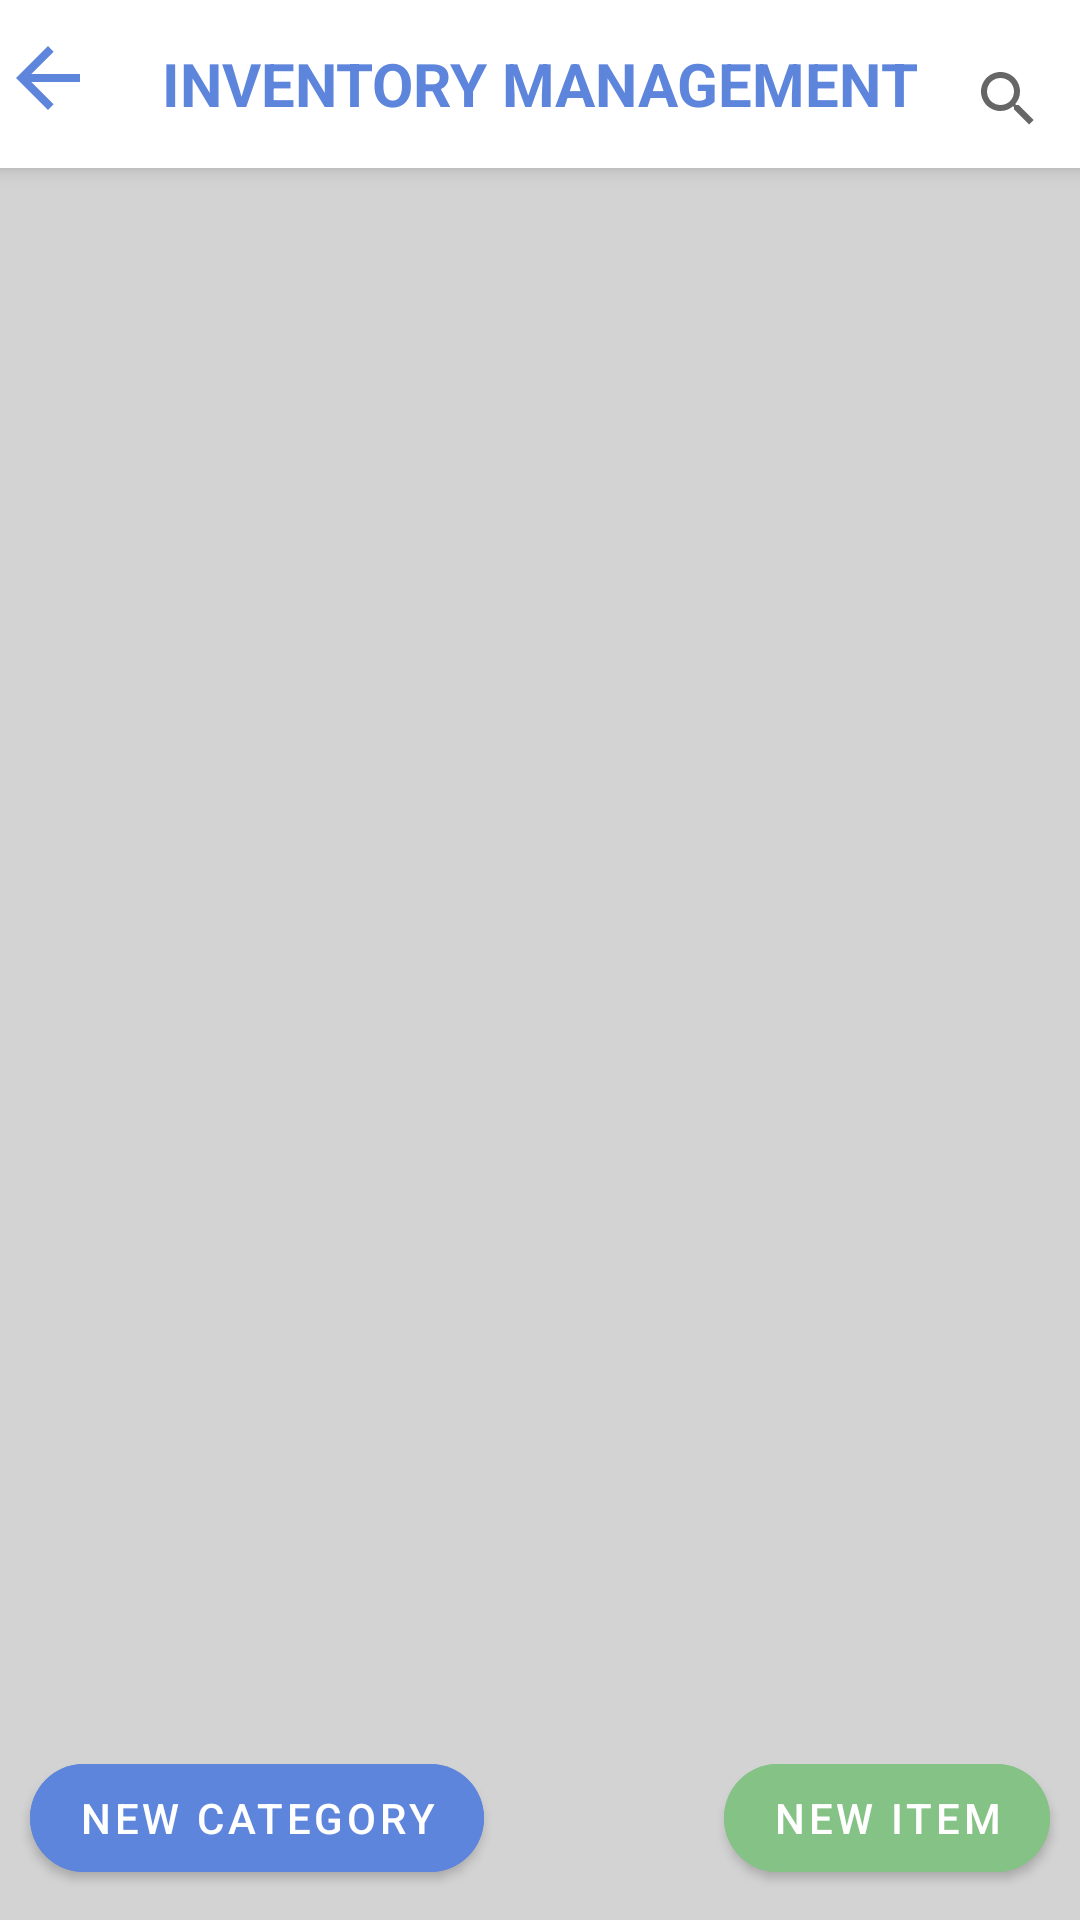

Point at icon controls on the screen. Image size 1080px×1920px, points as (x,y).
arrow back: (48,78)
